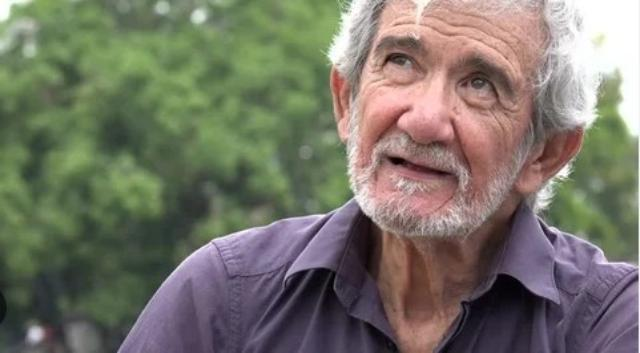chin: (435, 188, 453, 216)
crows_feet: (493, 92, 515, 124), (364, 58, 386, 88)
forehead: (472, 26, 508, 56), (432, 12, 464, 42), (389, 14, 418, 32)
gummy_smile: (448, 124, 469, 164), (378, 108, 397, 140)
